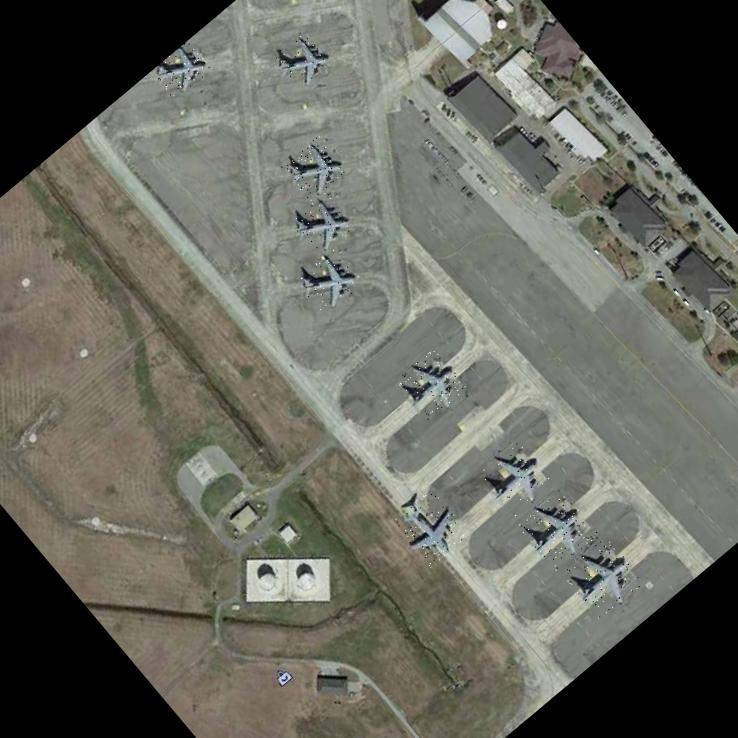A3: (562, 535, 646, 620), (515, 486, 599, 570), (392, 488, 470, 566), (478, 438, 556, 516), (394, 345, 469, 420), (294, 246, 364, 316), (289, 190, 356, 257), (281, 135, 347, 200), (271, 26, 335, 90), (150, 39, 212, 100)
